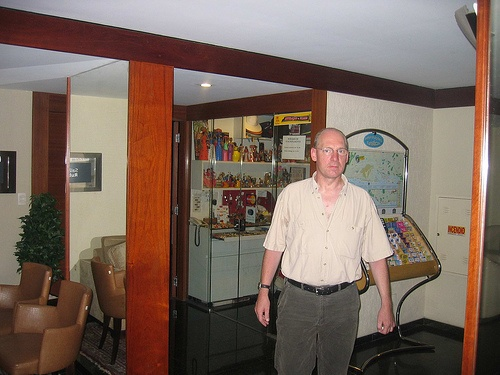head: (310, 128, 351, 178)
person: (256, 124, 396, 369)
